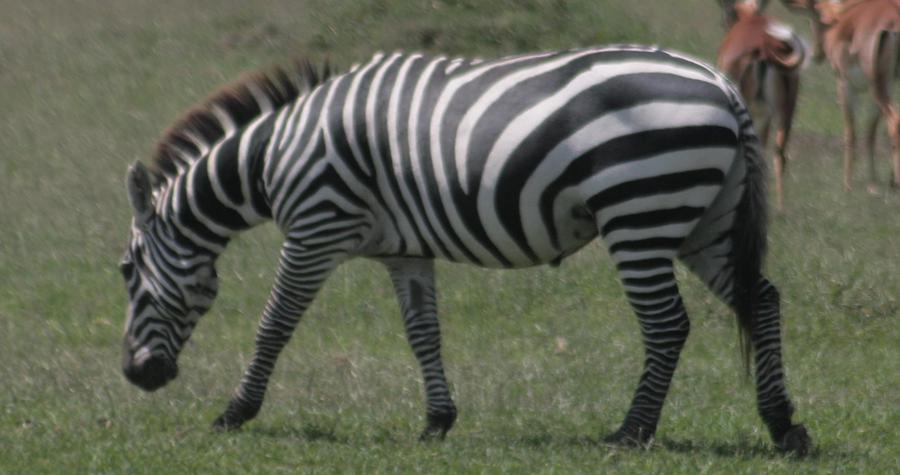zebra_plains: (261, 32, 739, 296)
